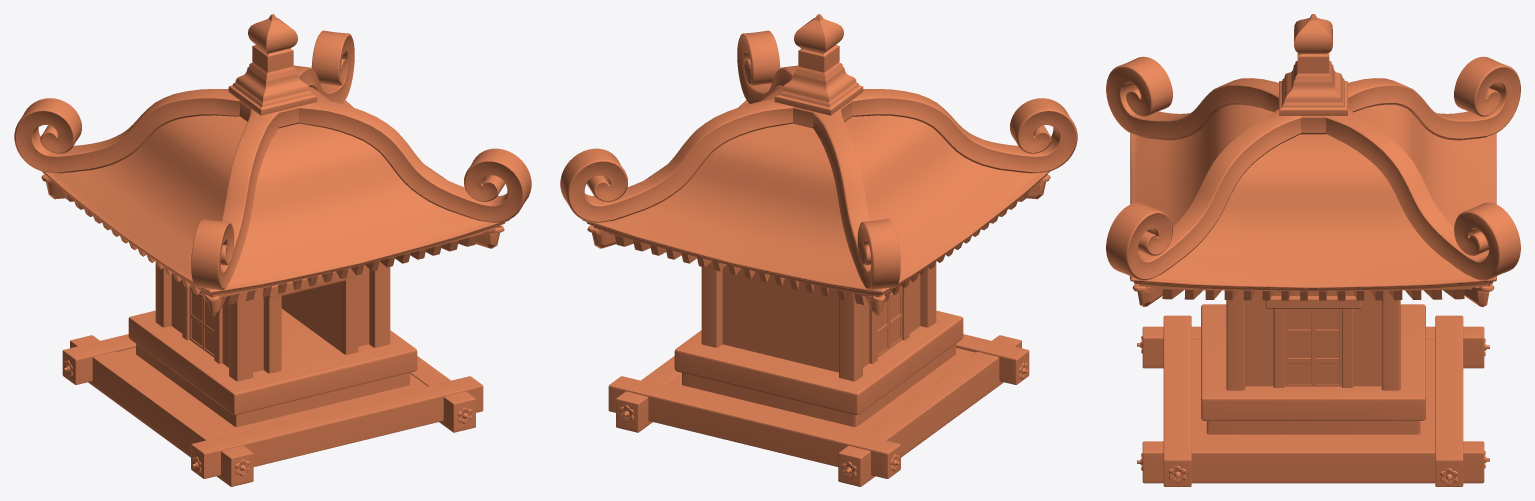
File: SM_Pulley_Head.fbx
3 views of the same model, side by side, from view 1: azimuth 30°, elevation 25°; view 2: azimuth 150°, elevation 25°; view 3: azimuth 270°, elevation 25° (orthographic). The views are drawn at different scales.
Visible parts, largest first — view 1: Roof6 (×2), Kumiki, Roof_Corner (×2), Roof, WallBase, Wall_Front, polySurface54 (×2), SM_Pulley_Head_Cap, polySurface65, Taruki, polySurface56; view 2: Roof6 (×2), Kumiki, Roof, WallBase, Roof_Corner (×2), Wall_Front, polySurface54 (×2), SM_Pulley_Head_Cap, polySurface56, Taruki, polySurface65; view 3: Roof6 (×2), Roof, Kumiki, Roof_Corner (×2), WallBase, polySurface54, SM_Pulley_Head_Cap, polySurface65, polySurface56, Taruki, polySurface58, polySurface63 (+1 smaller).
Boxes of the visible parts, x1=… form: Roof6 (×2): x1=191, y1=30, x2=509, y2=316; Kumiki: x1=62, y1=334, x2=483, y2=486; Roof_Corner (×2): x1=14, y1=89, x2=531, y2=248; Roof: x1=42, y1=100, x2=251, y2=297; WallBase: x1=128, y1=309, x2=417, y2=426; Wall_Front: x1=253, y1=264, x2=369, y2=373; polySurface54 (×2): x1=155, y1=262, x2=390, y2=381; SM_Pulley_Head_Cap: x1=228, y1=14, x2=317, y2=115; polySurface65: x1=189, y1=285, x2=202, y2=349; Taruki: x1=63, y1=191, x2=207, y2=301; polySurface56: x1=203, y1=298, x2=214, y2=357; Roof6 (×2): x1=560, y1=89, x2=1077, y2=304; Kumiki: x1=608, y1=334, x2=1029, y2=486; Roof: x1=840, y1=100, x2=1049, y2=297; WallBase: x1=674, y1=310, x2=963, y2=426; Roof_Corner (×2): x1=737, y1=30, x2=900, y2=316; Wall_Front: x1=722, y1=264, x2=838, y2=372; polySurface54 (×2): x1=701, y1=262, x2=936, y2=381; SM_Pulley_Head_Cap: x1=774, y1=14, x2=863, y2=115; polySurface56: x1=889, y1=285, x2=902, y2=349; Taruki: x1=884, y1=191, x2=1028, y2=301; polySurface65: x1=877, y1=298, x2=888, y2=357; Roof6 (×2): x1=1106, y1=56, x2=1520, y2=306; Roof: x1=1130, y1=116, x2=1496, y2=291; Kumiki: x1=1142, y1=315, x2=1484, y2=486; Roof_Corner (×2): x1=1106, y1=56, x2=1520, y2=306; WallBase: x1=1201, y1=304, x2=1425, y2=434; polySurface54: x1=1226, y1=290, x2=1400, y2=390; SM_Pulley_Head_Cap: x1=1279, y1=14, x2=1347, y2=115; polySurface65: x1=1285, y1=308, x2=1313, y2=386; polySurface56: x1=1313, y1=308, x2=1341, y2=386; Taruki: x1=1162, y1=289, x2=1464, y2=300; polySurface58: x1=1265, y1=296, x2=1361, y2=308; polySurface63: x1=1273, y1=308, x2=1284, y2=387.
Bounding box in the file's own units: 147 × 159 × 147.
